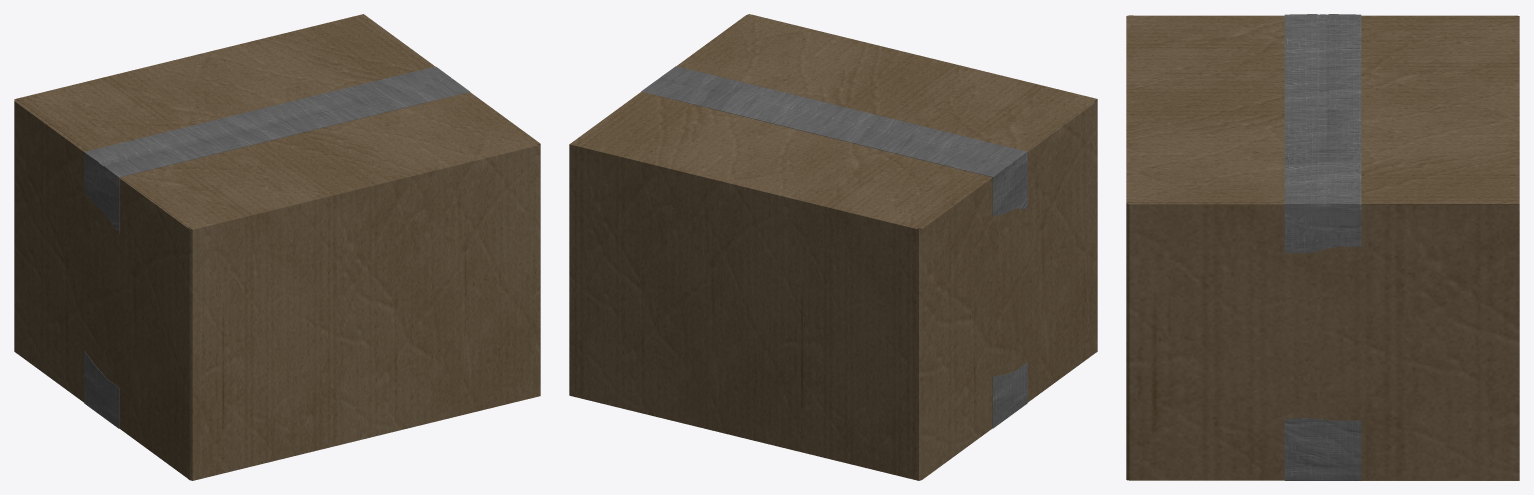
Rendered from LightCrate.fbx.
3 renders of one model, left to right at view 1: azimuth 30°, elevation 25°; view 2: azimuth 150°, elevation 25°; view 3: azimuth 270°, elevation 25°, orthographic. The views are drawn at different scales.
Parts seen in each view (by area): view 1: Cardboard Box SQ01.004; view 2: Cardboard Box SQ01.004; view 3: Cardboard Box SQ01.004.
Boxes of the visible parts, <box> form: Cardboard Box SQ01.004: <box>14,14,540,480</box>; Cardboard Box SQ01.004: <box>569,14,1097,480</box>; Cardboard Box SQ01.004: <box>1126,14,1519,480</box>.
Size of the model in its own units: 85.55 by 58.79 by 75.1.
